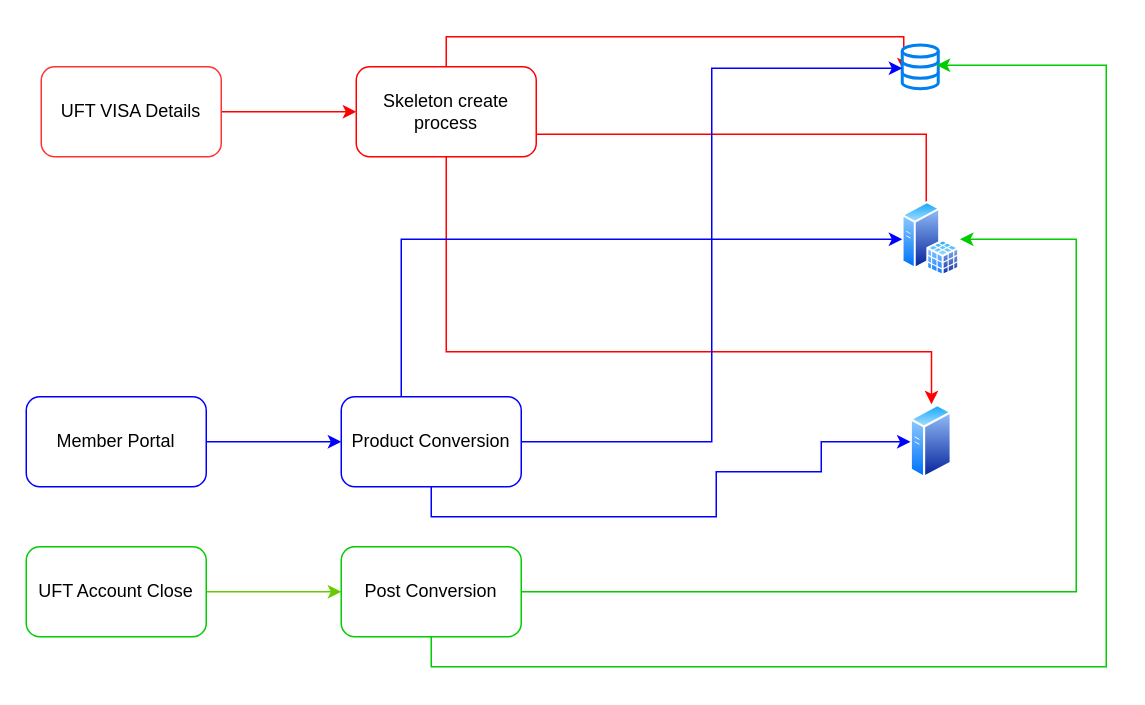
Image size: 1145x705. Some labels were removed from this diagram. Here are the shapes that lost their labels. From the top down, the box of each, then its label:
(900, 43, 939, 89): AFCU Oracle database
(902, 201, 959, 276): Message Broker
(910, 404, 952, 478): Altier Databridge server
